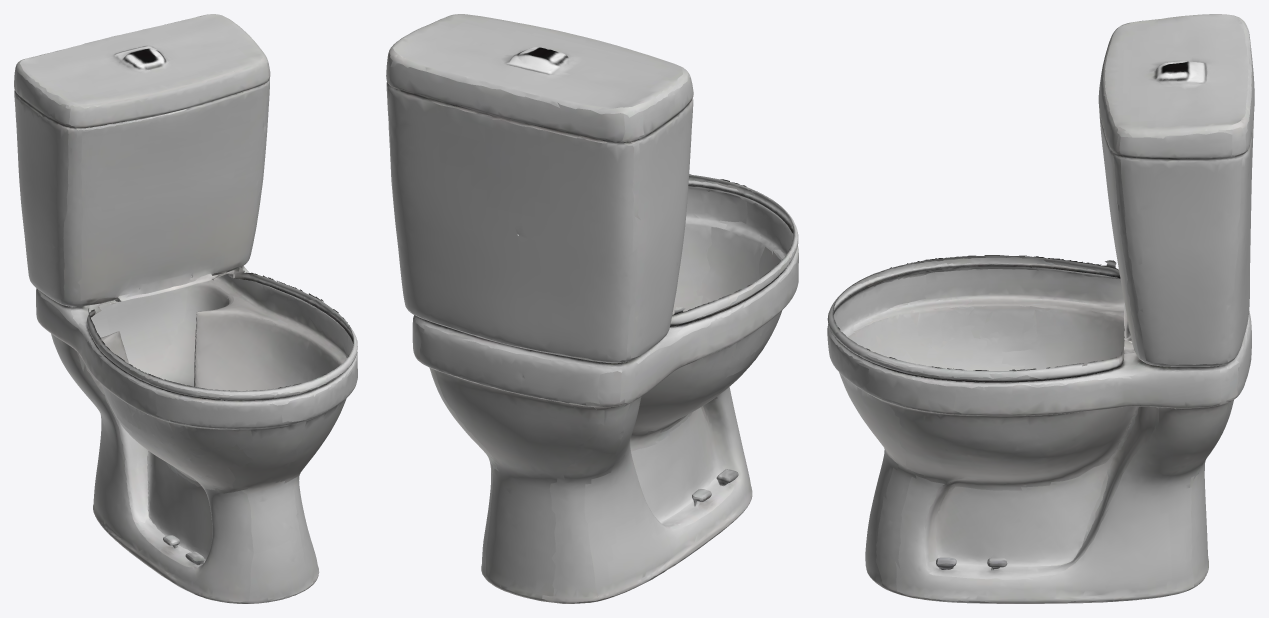
3 renders of one model, left to right at view 1: azimuth 30°, elevation 25°; view 2: azimuth 150°, elevation 25°; view 3: azimuth 270°, elevation 25°, orthographic. The views are drawn at different scales.
Parts seen in each view (by area): view 1: world; view 2: world; view 3: world.
Part boxes in pixels (bbox=[...]): world: bbox=[14, 14, 357, 603]; world: bbox=[386, 14, 798, 603]; world: bbox=[827, 14, 1254, 603].
Bounding box in the file's own units: 0.3965 × 0.78 × 0.6018.
1 material, 1 textured.
